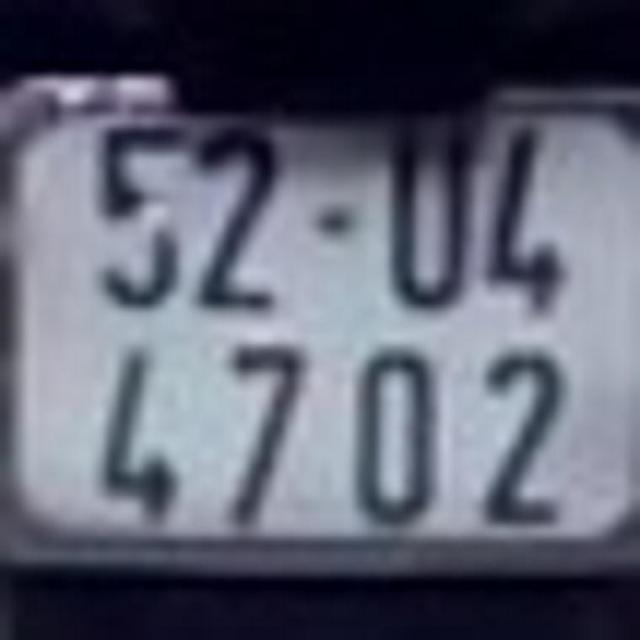0: (353, 338, 436, 532)
2: (196, 111, 280, 316), (487, 339, 564, 535)
4: (93, 336, 183, 539), (485, 127, 568, 324)
5: (100, 117, 187, 312)
7: (222, 330, 304, 527)
U: (385, 122, 472, 313)
